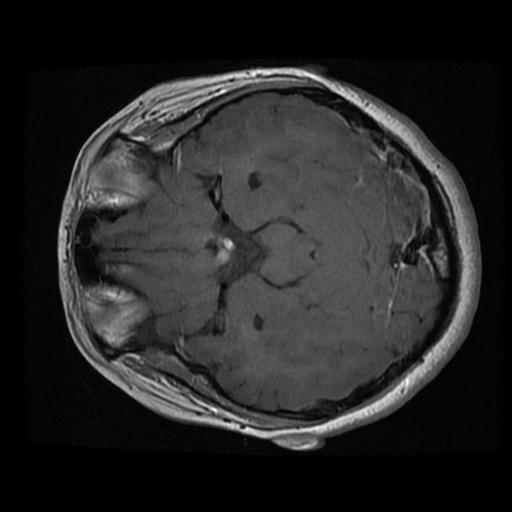pituitary tumour: (216, 236, 236, 265)
